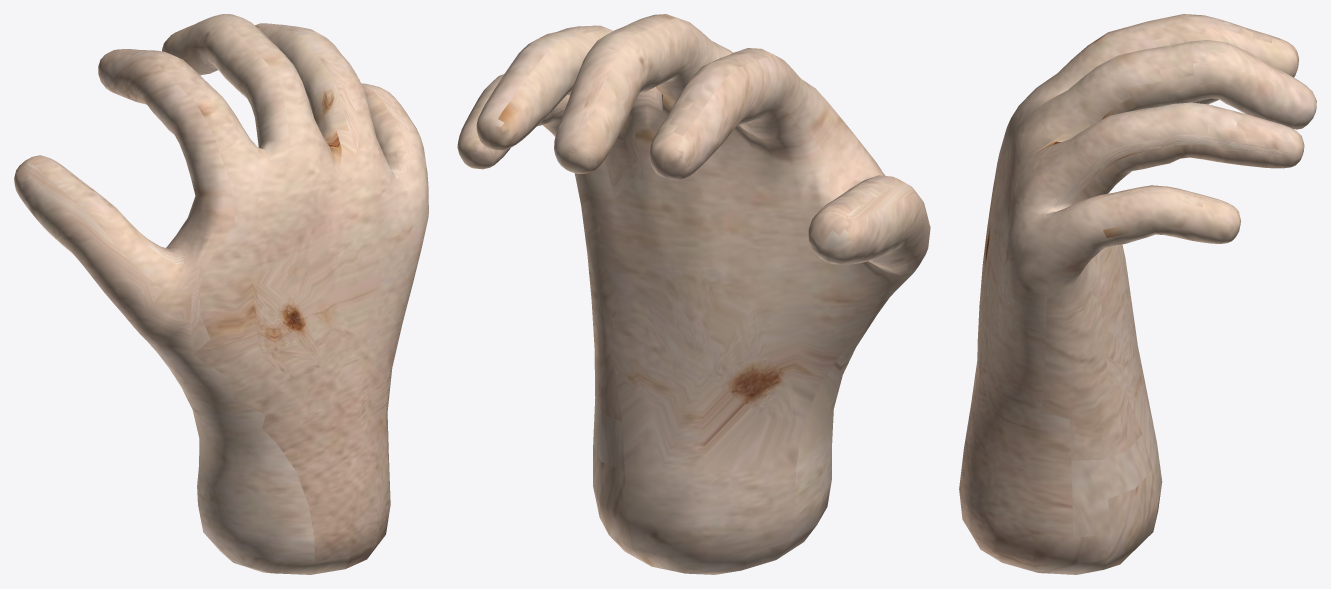
File: hand6.obj
3 views of the same model, side by side, from view 1: azimuth 30°, elevation 25°; view 2: azimuth 150°, elevation 25°; view 3: azimuth 270°, elevation 25° (orthographic). The views are drawn at different scales.
Visible parts, largest first — view 1: Cube.001; view 2: Cube.001; view 3: Cube.001.
Boxes of the visible parts, box(x1,y1,x2,y2) form: Cube.001: box(14, 14, 428, 574); Cube.001: box(457, 14, 930, 574); Cube.001: box(959, 14, 1316, 574).
Bounding box in the file's own units: 3.68 × 4.94 × 3.1.
